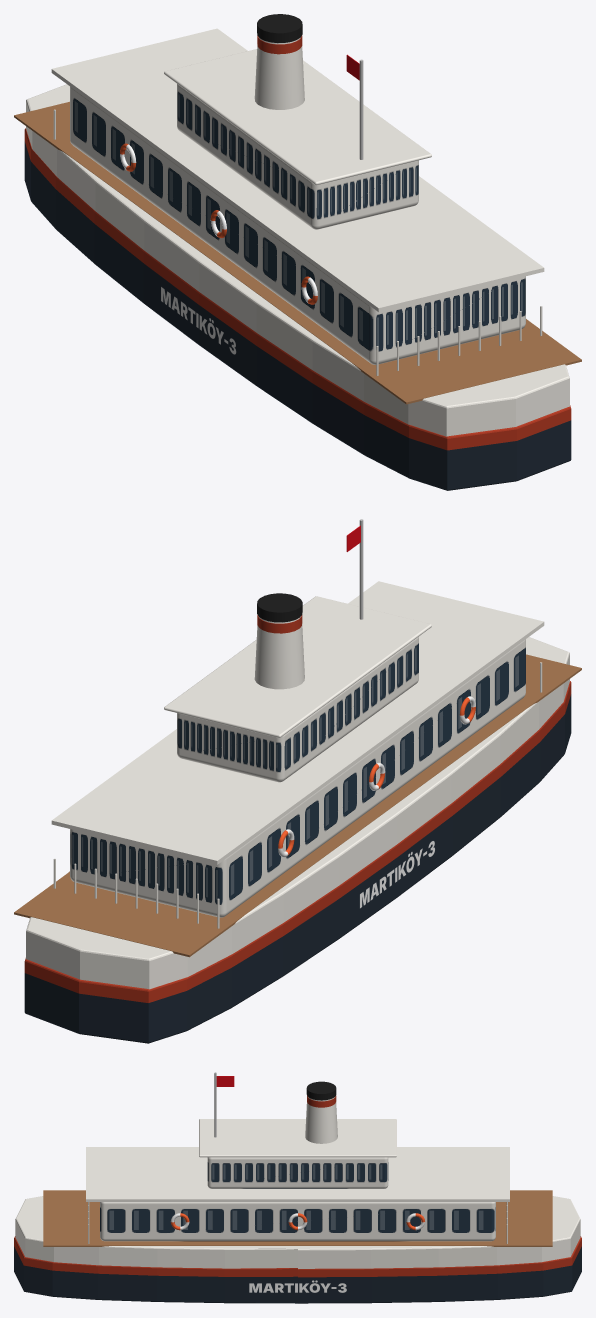
The model's file is vapur.glb.
3 views of the same model, one above another, from view 1: azimuth 30°, elevation 25°; view 2: azimuth 150°, elevation 25°; view 3: azimuth 270°, elevation 25° (orthographic). The views are drawn at different scales.
Visible parts, largest first — view 1: vapur; view 2: vapur; view 3: vapur.
Part boxes in pixels (x1=…): vapur: x1=14, y1=14, x2=581, y2=490; vapur: x1=14, y1=519, x2=581, y2=1043; vapur: x1=14, y1=1072, x2=581, y2=1303.
Bounding box in the file's own units: 6.32 × 9.35 × 24.1.
10 materials, 3 textured.
